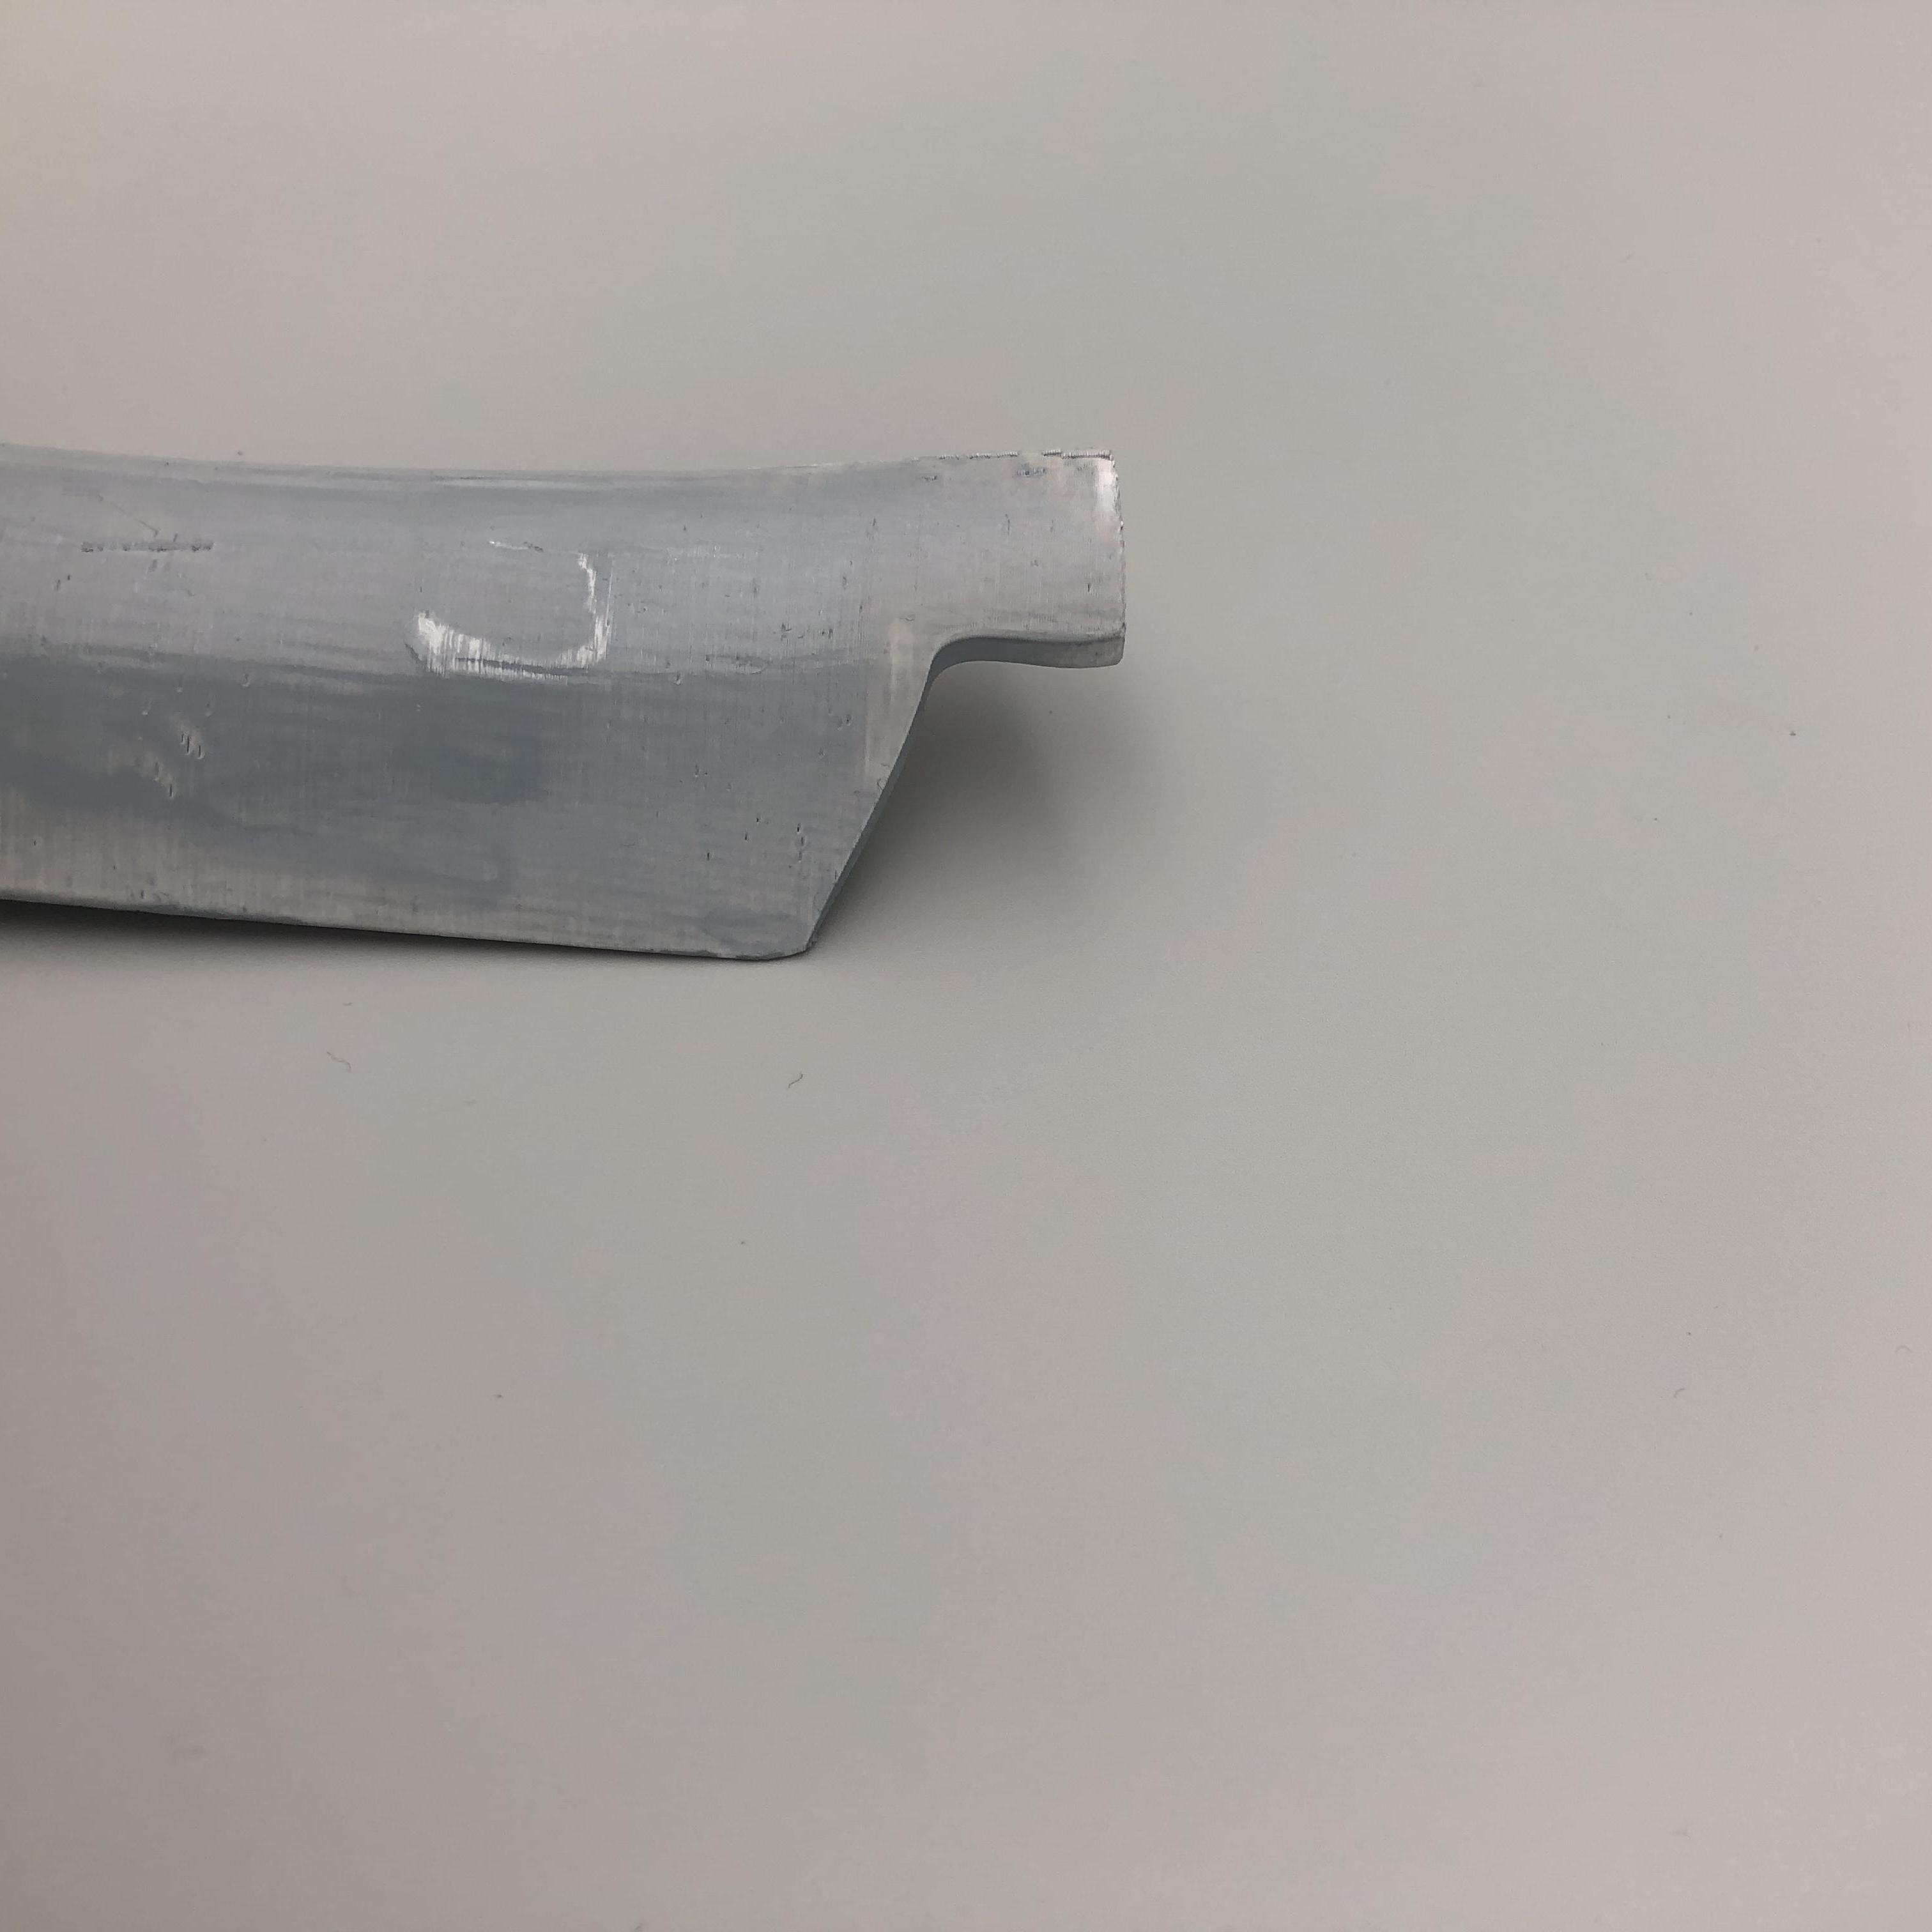fracture: (819, 609, 1157, 941)
